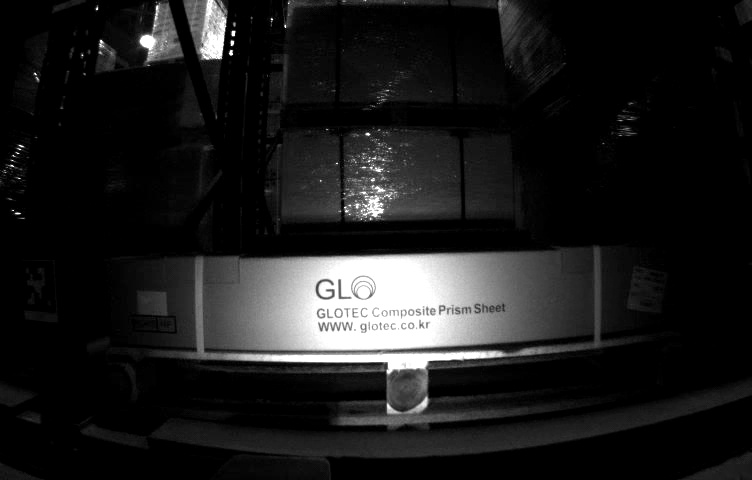True Barcode: (629, 264, 665, 313)
